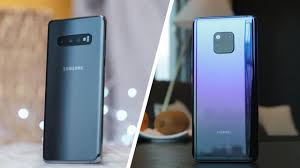huawei: (42, 11, 108, 166), (191, 11, 256, 164)
